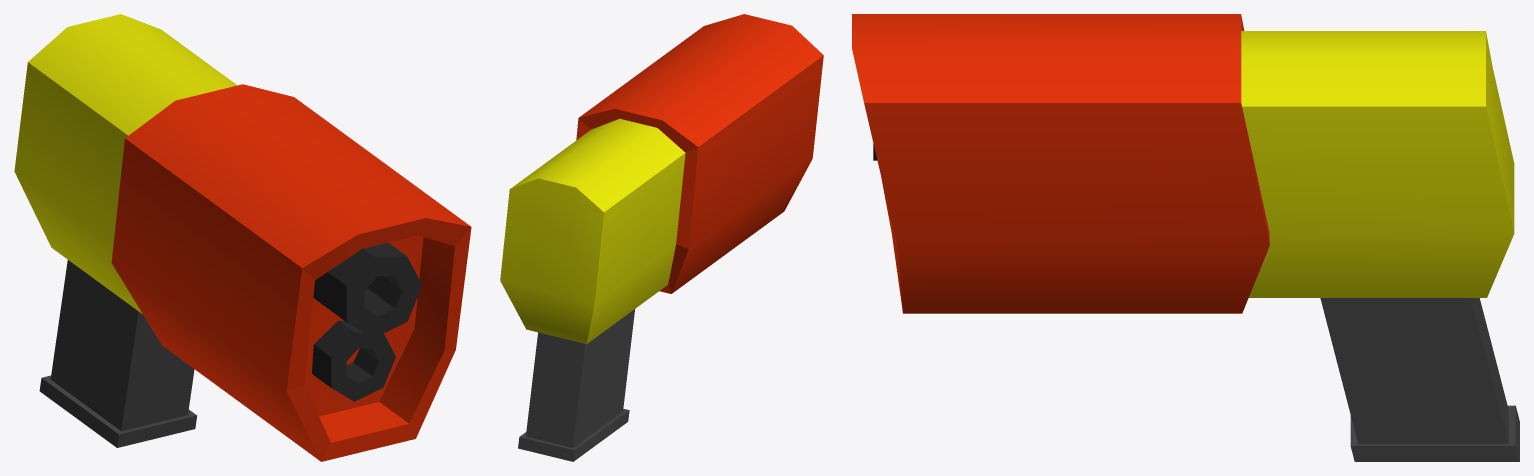
The model's file is Gun.fbx.
3 views of the same model, side by side, from view 1: azimuth 30°, elevation 25°; view 2: azimuth 150°, elevation 25°; view 3: azimuth 270°, elevation 25° (orthographic). The views are drawn at different scales.
Parts seen in each view (by area): view 1: gun; view 2: gun; view 3: gun.
Part boxes in pixels (x1=…): gun: x1=14, y1=14, x2=471, y2=461; gun: x1=500, y1=14, x2=823, y2=461; gun: x1=852, y1=14, x2=1519, y2=461.
Size of the model in its own units: 0.8189 by 1.78 by 2.63.
